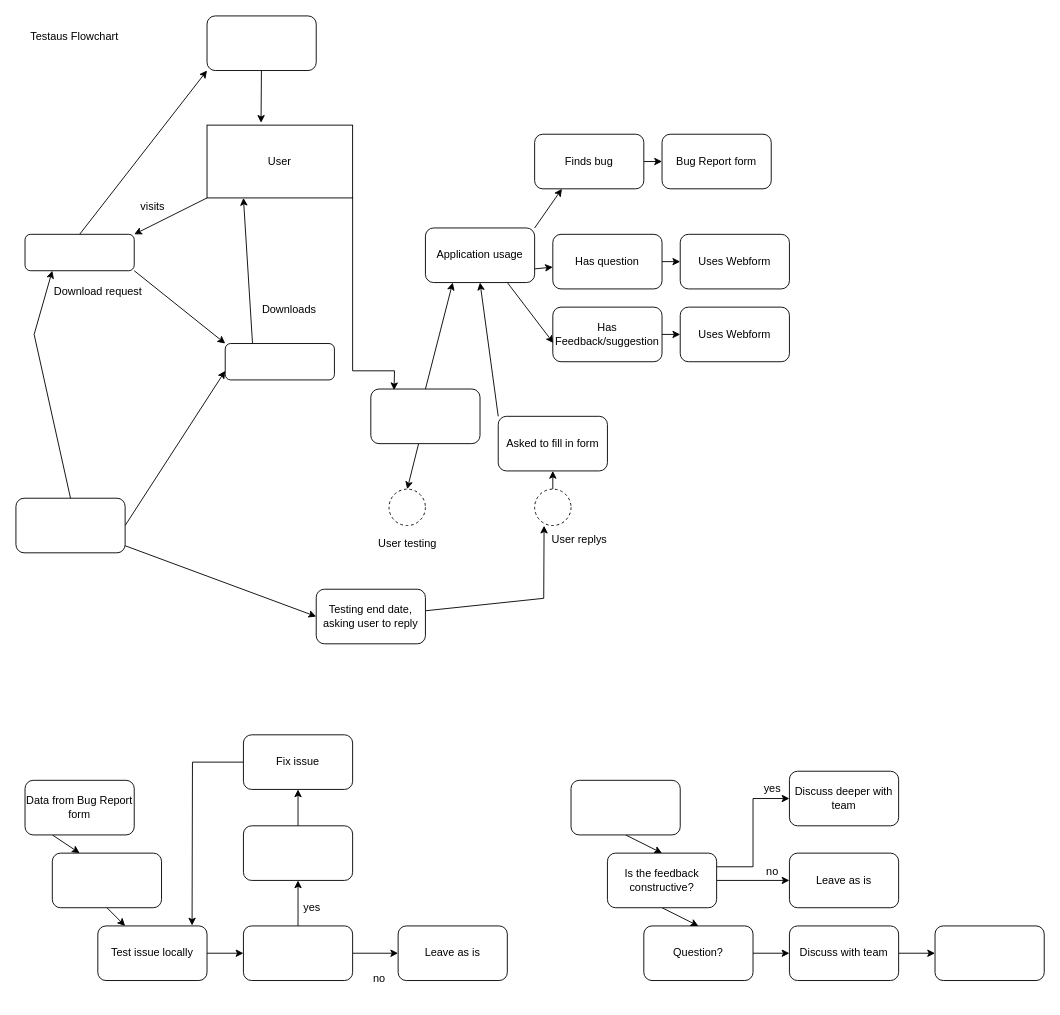
Image size: 1060x1015. Some labels were removed from this diagram. The shapes that lost their labels are listed below. From the top down, each one's centre as x and y in pixels, then its label:
At pixel 261 43: "Email to User sent".
At pixel 79 252: "Web portal (download)".
At pixel 279 361: "Application".
At pixel 425 416: "Testing".
At pixel 70 525: "Team Rämä".
At pixel 625 807: "Data from Feedback form".
At pixel 298 852: "New branch".
At pixel 106 880: "Analyze what is the issue".
At pixel 298 953: "Issue can be replicated with data".
At pixel 989 953: "Send reply to given email address".
